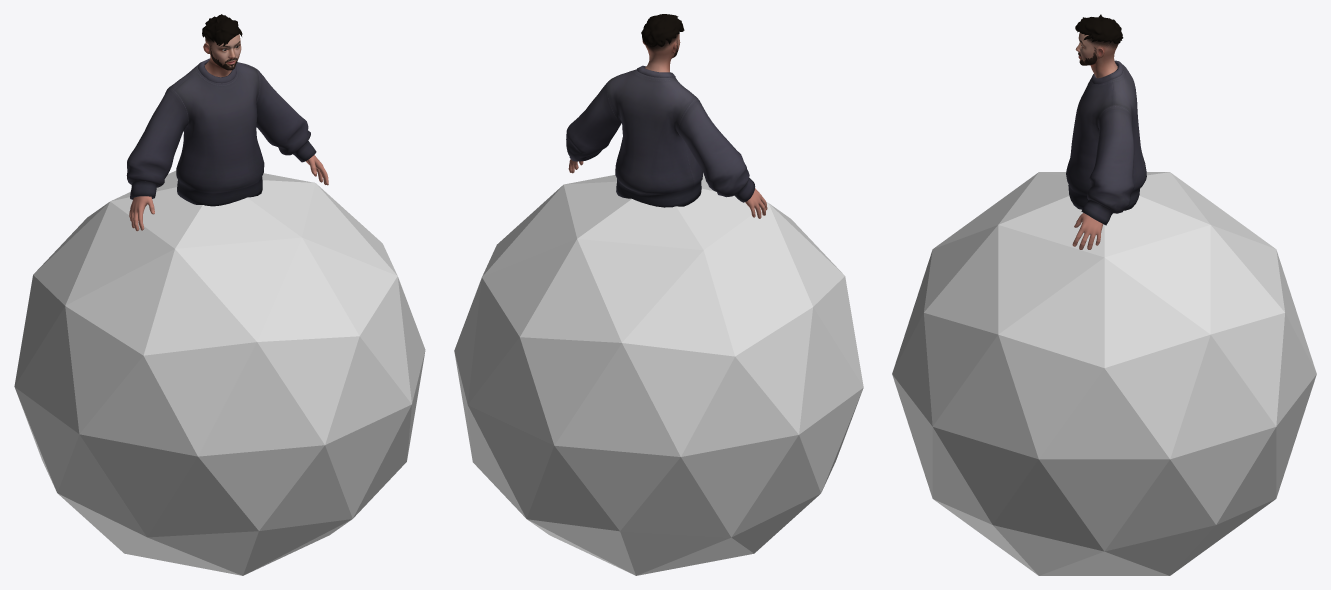
Rendered from male4.fbx.
3 renders of one model, left to right at view 1: azimuth 30°, elevation 25°; view 2: azimuth 150°, elevation 25°; view 3: azimuth 270°, elevation 25°, orthographic.
Visible parts, largest first — view 1: Icosphere, Wolf3D_Avatar; view 2: Icosphere, Wolf3D_Avatar; view 3: Icosphere, Wolf3D_Avatar.
Boxes of the visible parts, box(x1,y1,x2,y2) form: Icosphere: box(14, 170, 425, 575); Wolf3D_Avatar: box(126, 14, 328, 231); Icosphere: box(454, 173, 863, 575); Wolf3D_Avatar: box(566, 14, 767, 218); Icosphere: box(892, 172, 1316, 575); Wolf3D_Avatar: box(1066, 14, 1146, 249).
Bounding box in the file's own units: 190 × 286 × 200.
Materials: 1 (1 with a texture image).
